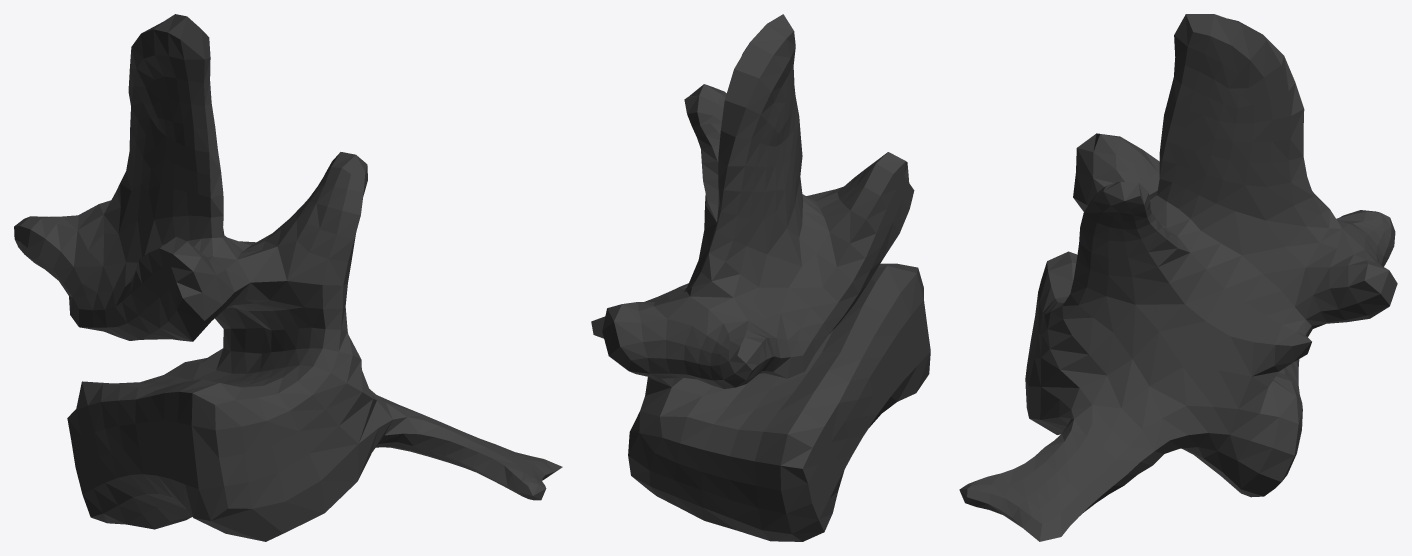
The picture shows the model from 3 angles, left to right: view 1: azimuth 30°, elevation 25°; view 2: azimuth 150°, elevation 25°; view 3: azimuth 270°, elevation 25°; orthographic projection. The views are drawn at different scales.
Visible parts, largest first — view 1: L3; view 2: L3; view 3: L3.
Part boxes in pixels (x1,y1,x2,y2): L3: (14,14,562,541); L3: (591,14,930,541); L3: (959,14,1397,541).
Bounding box in the file's own units: 0.0112 × 0.0152 × 0.013.
Materials: 1 (1 with a texture image).
